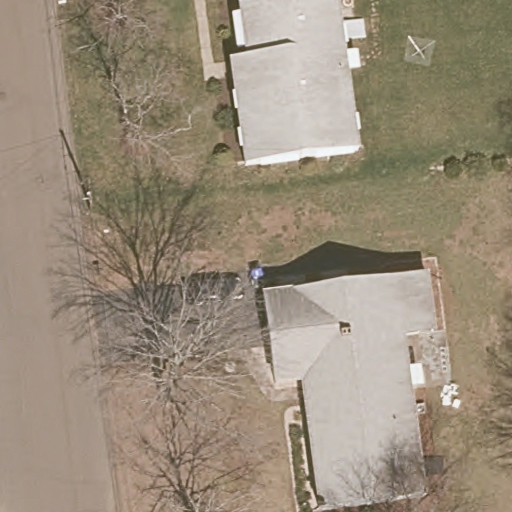DT: (79, 172, 101, 212)
